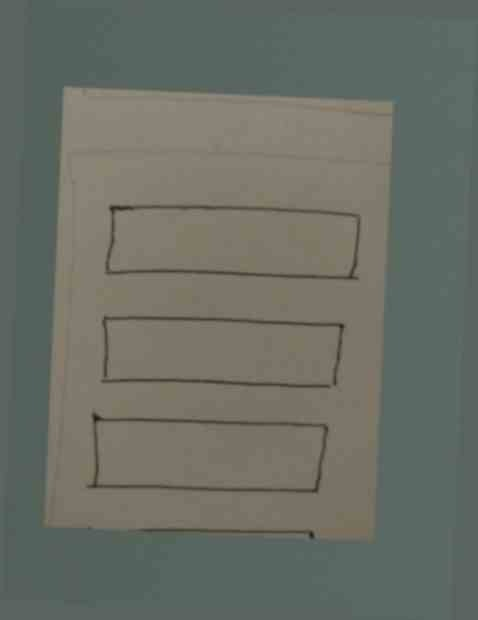text_input: (82, 403, 333, 505), (97, 196, 371, 289), (89, 308, 352, 397)
